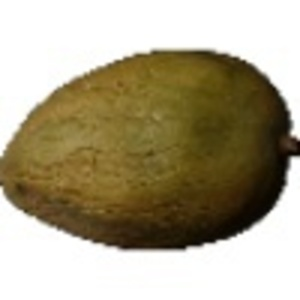mamão: (5, 45, 293, 253)
